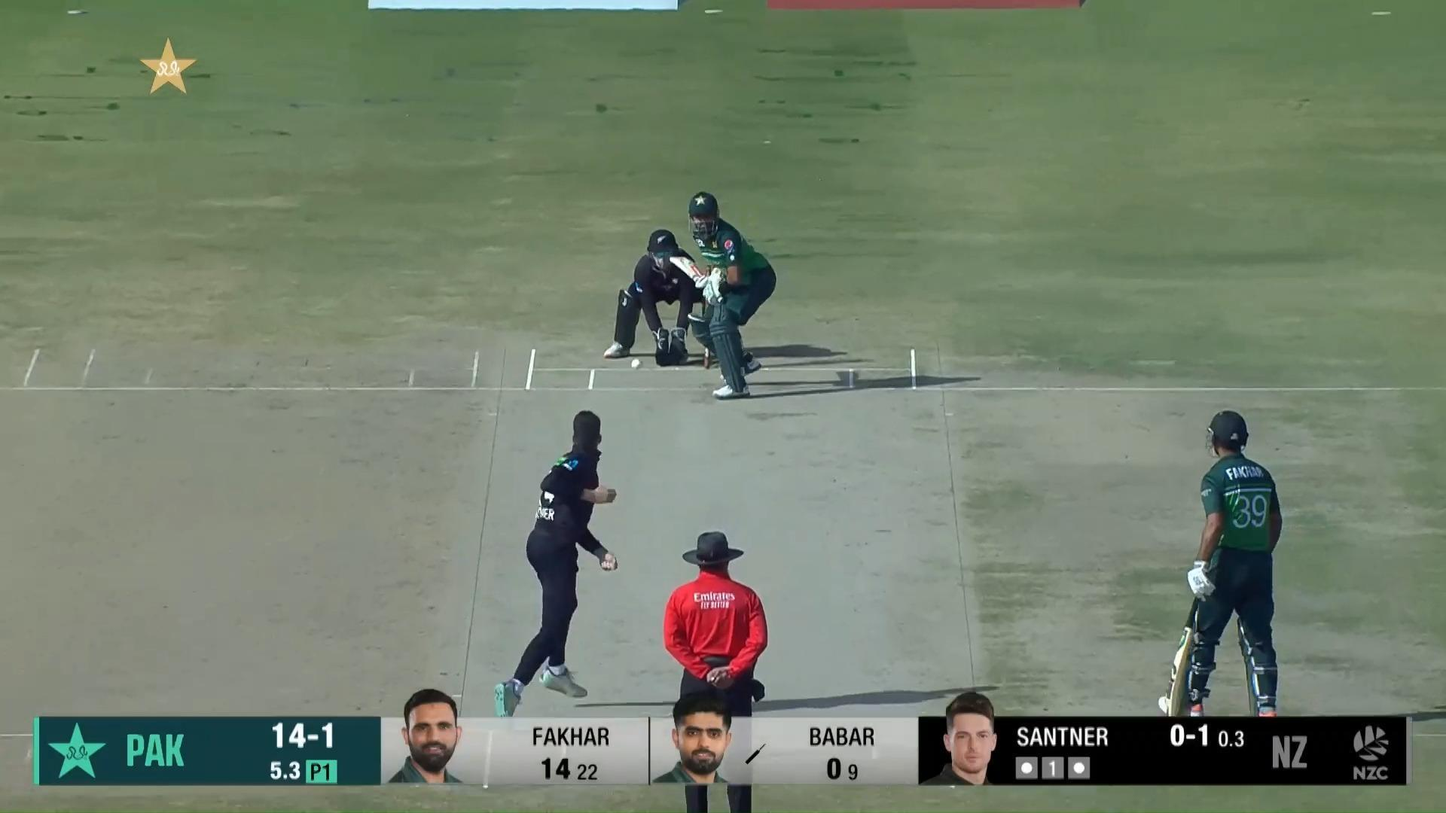BM 1: (668, 190, 777, 400)
BO: (493, 407, 619, 719)
